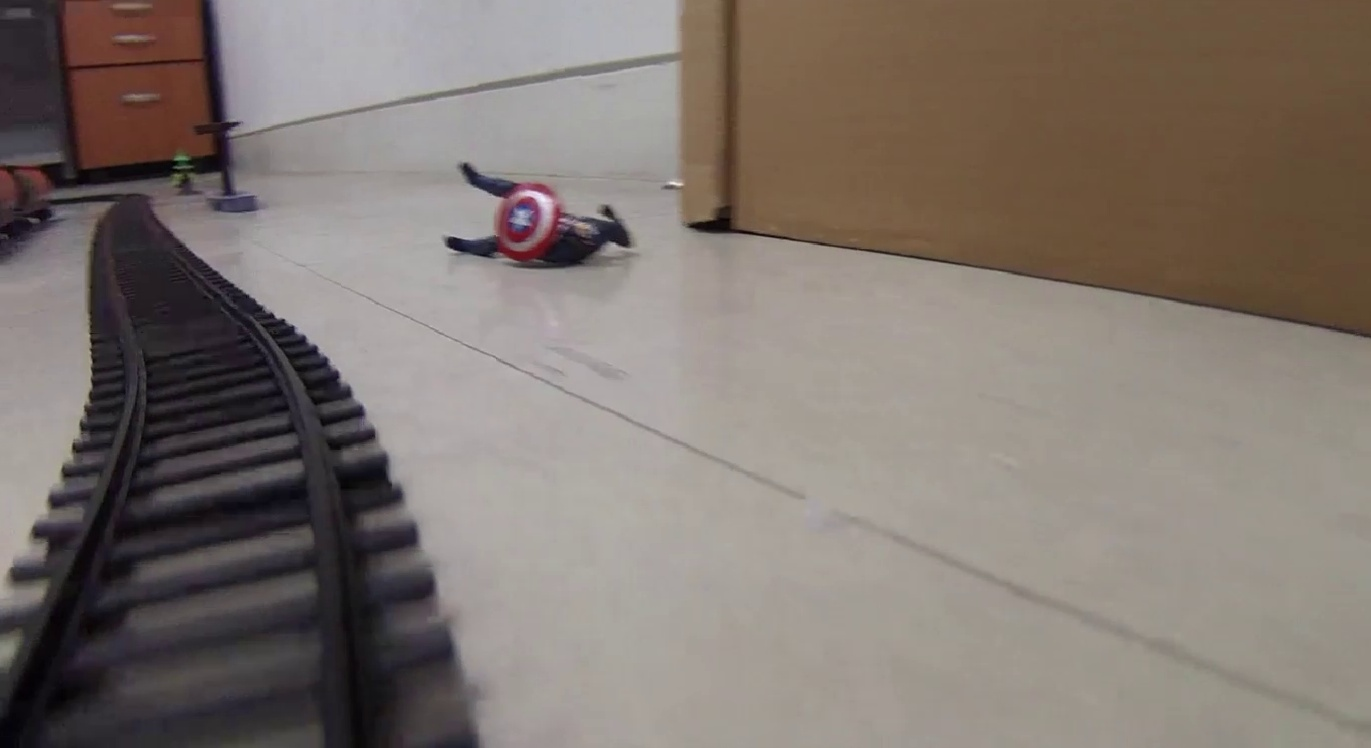people: (441, 160, 636, 267)
